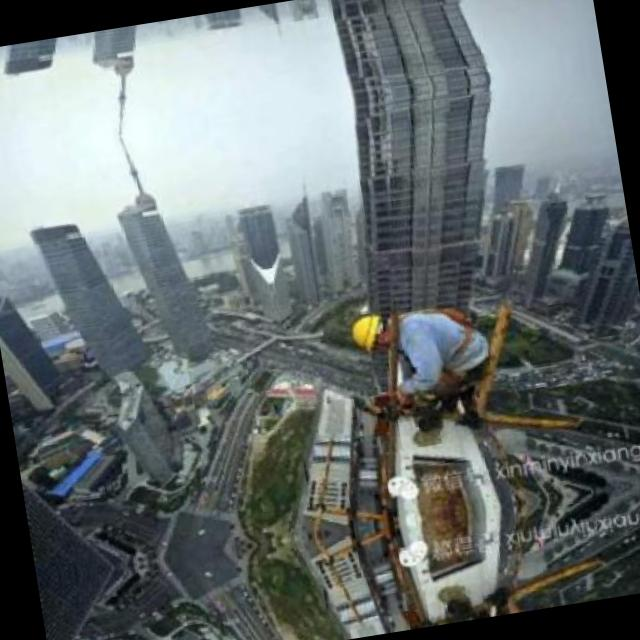helmet: (348, 306, 396, 356)
